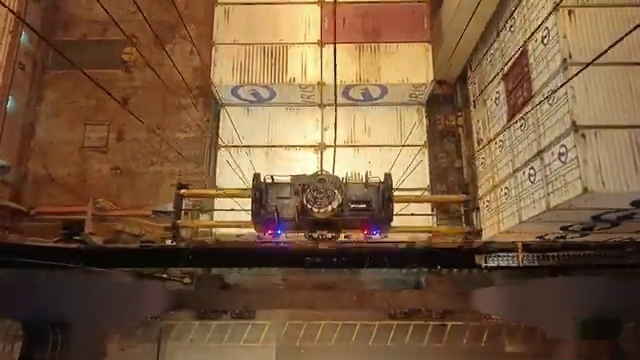container: (207, 43, 435, 104), (211, 193, 435, 246), (216, 144, 435, 190), (208, 1, 436, 44), (209, 4, 432, 42), (209, 0, 433, 37), (216, 108, 427, 145)
guide_mark: (108, 325, 542, 345), (65, 345, 559, 360)
spreader: (167, 172, 486, 248)
target_slot: (208, 42, 437, 107)
